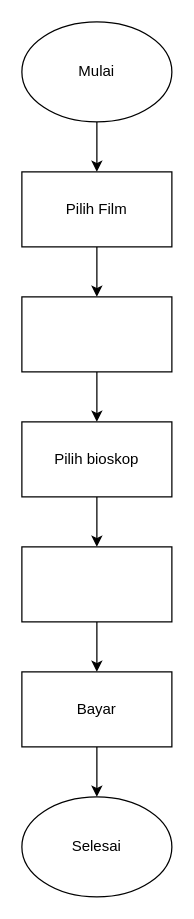
Some shapes in this 194 by 919 pixel diagram are drawn without their labels. Here are the shapes that lost their labels. From the top down, the box of each, then its label:
(21, 296, 172, 372): Pilih lokasi
(21, 546, 172, 622): Plih kursi
